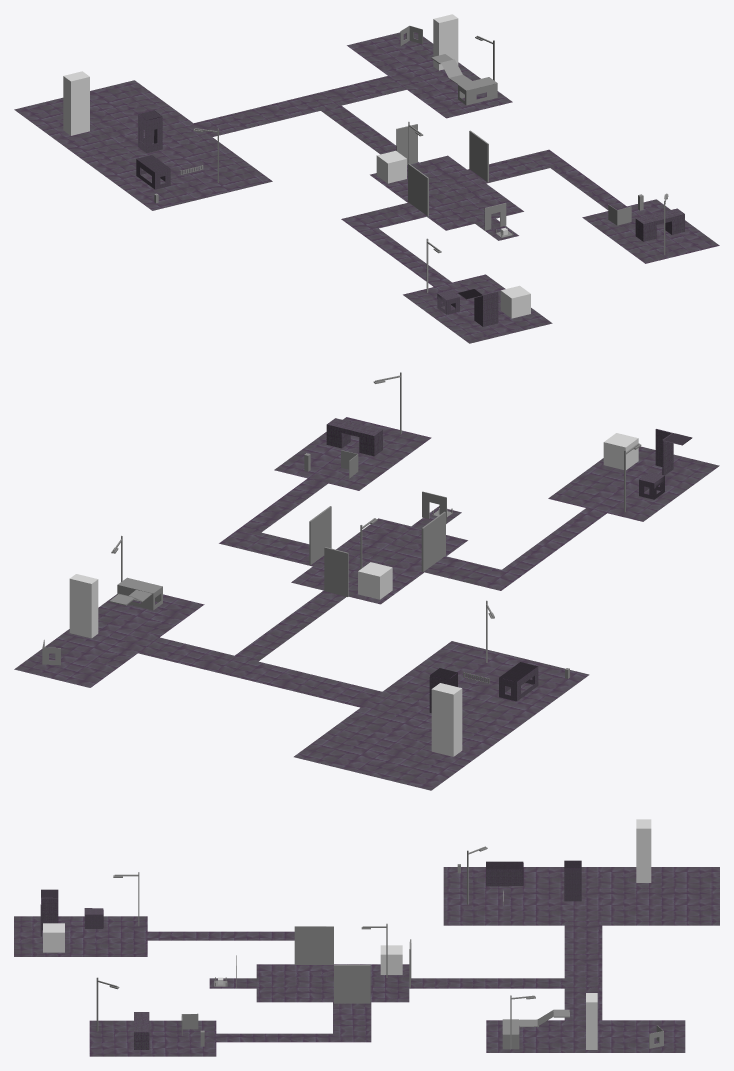
File: Escenario_v5467.FBX
The picture shows the model from 3 angles, top to bottom: view 1: azimuth 30°, elevation 25°; view 2: azimuth 150°, elevation 25°; view 3: azimuth 270°, elevation 25°; orthographic projection. The views are drawn at different scales.
Visible parts, largest first — view 1: Plane001, Box087, Box095, Box093, Box088, Box004, Box086, Box091, Box089, Box003, Box062, Box046 (+1 smaller); view 2: Plane001, Box087, Box095, Box093, Box003, Box045, Box089, Box086, Box091, Box046, Box004, Box062; view 3: Plane001, Box003, Box046, Box087, Box089, Box088, Box086, Box095, Box004, Box091, Box093, Box062 (+1 smaller).
Boxes of the visible parts, bbox=[...] form: Plane001: bbox=[14, 32, 719, 343]; Box087: bbox=[63, 71, 89, 135]; Box095: bbox=[433, 14, 458, 70]; Box093: bbox=[635, 208, 684, 241]; Box088: bbox=[138, 110, 162, 152]; Box004: bbox=[457, 288, 498, 326]; Box086: bbox=[376, 150, 406, 183]; Box091: bbox=[500, 285, 530, 318]; Box089: bbox=[136, 155, 170, 189]; Box003: bbox=[408, 163, 428, 216]; Box062: bbox=[458, 77, 497, 105]; Box046: bbox=[469, 130, 488, 182]; Plane001: bbox=[14, 417, 719, 790]; Box087: bbox=[431, 683, 462, 756]; Box095: bbox=[69, 574, 98, 638]; Box093: bbox=[326, 418, 382, 456]; Box003: bbox=[421, 511, 445, 571]; Box045: bbox=[324, 547, 348, 596]; Box089: bbox=[499, 662, 538, 701]; Box086: bbox=[358, 562, 392, 599]; Box091: bbox=[603, 433, 638, 469]; Box046: bbox=[309, 506, 331, 565]; Box004: bbox=[655, 429, 692, 475]; Box062: bbox=[117, 577, 162, 610]; Plane001: bbox=[14, 867, 719, 1056]; Box003: bbox=[294, 926, 333, 964]; Box046: bbox=[334, 965, 370, 1003]; Box087: bbox=[636, 819, 651, 882]; Box089: bbox=[486, 861, 523, 886]; Box088: bbox=[564, 860, 581, 901]; Box086: bbox=[380, 945, 402, 974]; Box095: bbox=[586, 993, 597, 1049]; Box004: bbox=[40, 889, 58, 936]; Box091: bbox=[43, 923, 64, 952]; Box093: bbox=[134, 1012, 149, 1049]; Box062: bbox=[502, 1019, 519, 1049].
Size of the model in its own units: 3256 by 448 by 5116.
